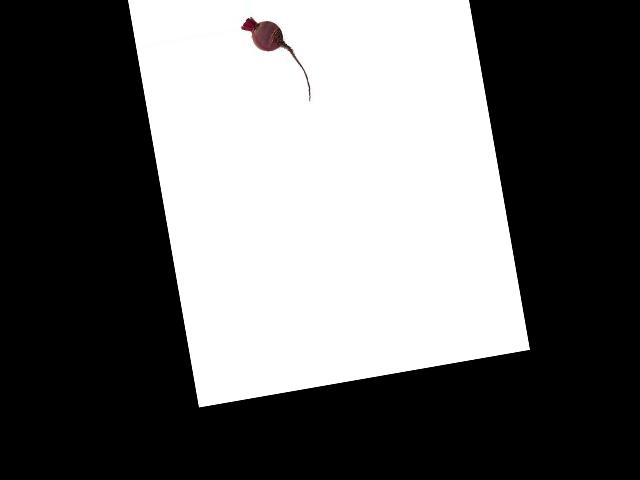beet: (240, 9, 312, 111)
